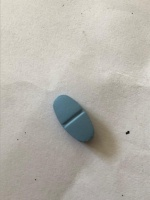Majezik: (52, 92, 95, 148)
